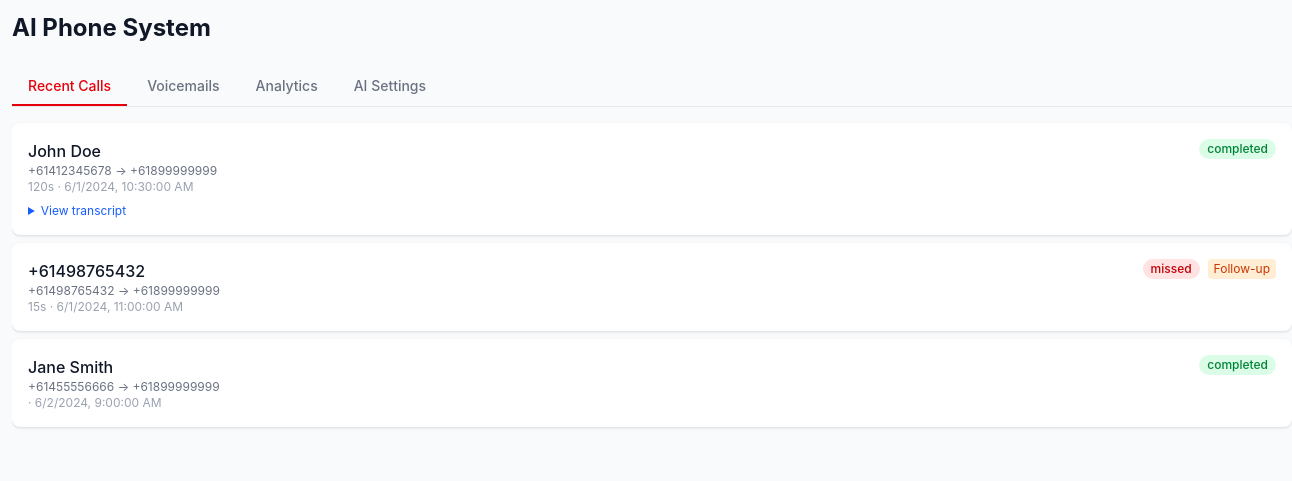
Test: PhoneSystem Page › expands transcript details on click
The width and height of the screenshot is (1292, 481).
expect the text "John Doe" is shown: met, box [28, 141, 101, 161]
Click the heading "View transcript". click: (83, 210)
box: [41, 203, 126, 218]
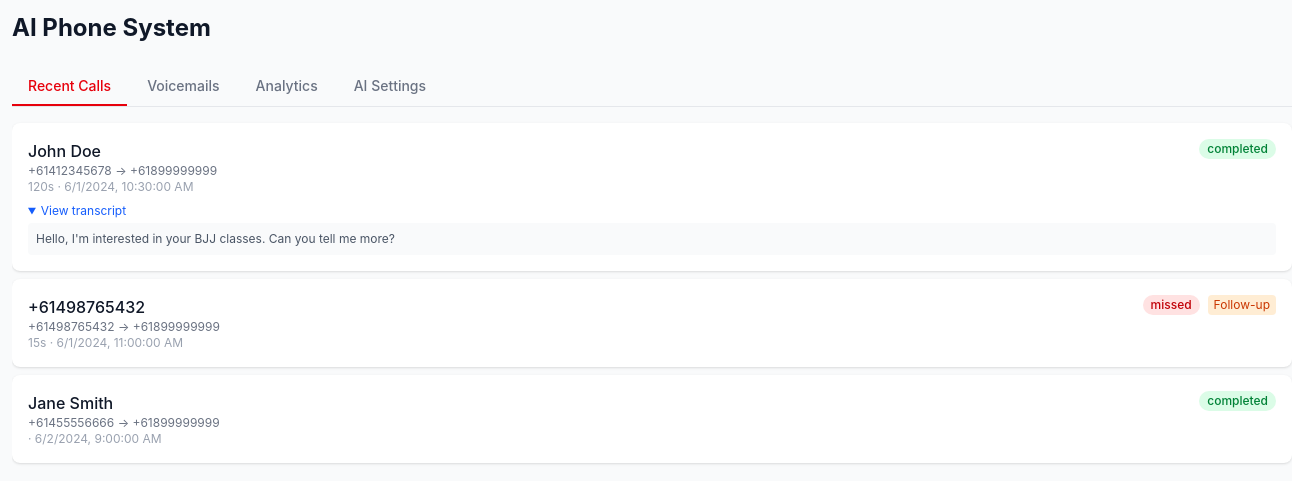
expect the text "I'm interested in your BJJ classes" is shown: met, box [36, 231, 395, 246]
